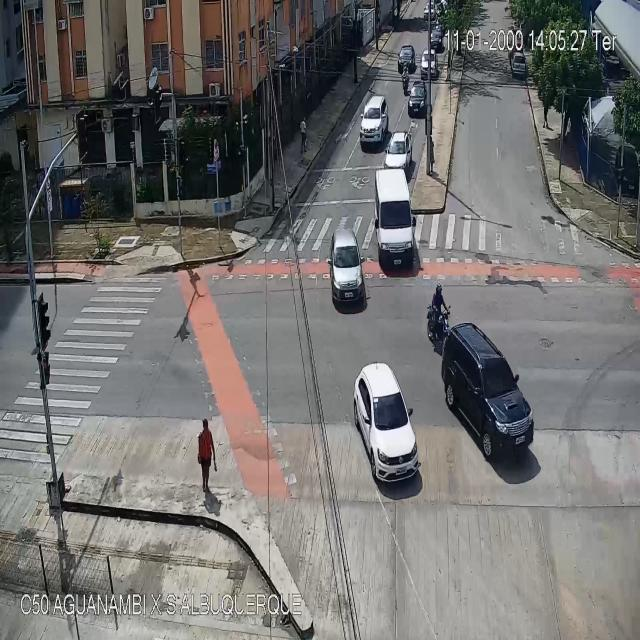Car: (441, 325, 536, 457), (353, 360, 420, 484), (374, 169, 417, 271), (328, 230, 365, 308), (361, 95, 389, 149), (384, 131, 411, 172), (409, 83, 427, 114), (399, 44, 415, 72), (421, 52, 437, 78), (511, 54, 526, 76), (431, 27, 444, 49), (424, 5, 435, 22)
Motorcycle: (426, 283, 449, 348), (401, 66, 408, 96)
